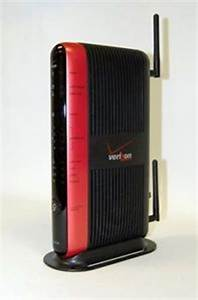Verizon Router: (31, 14, 198, 284)
